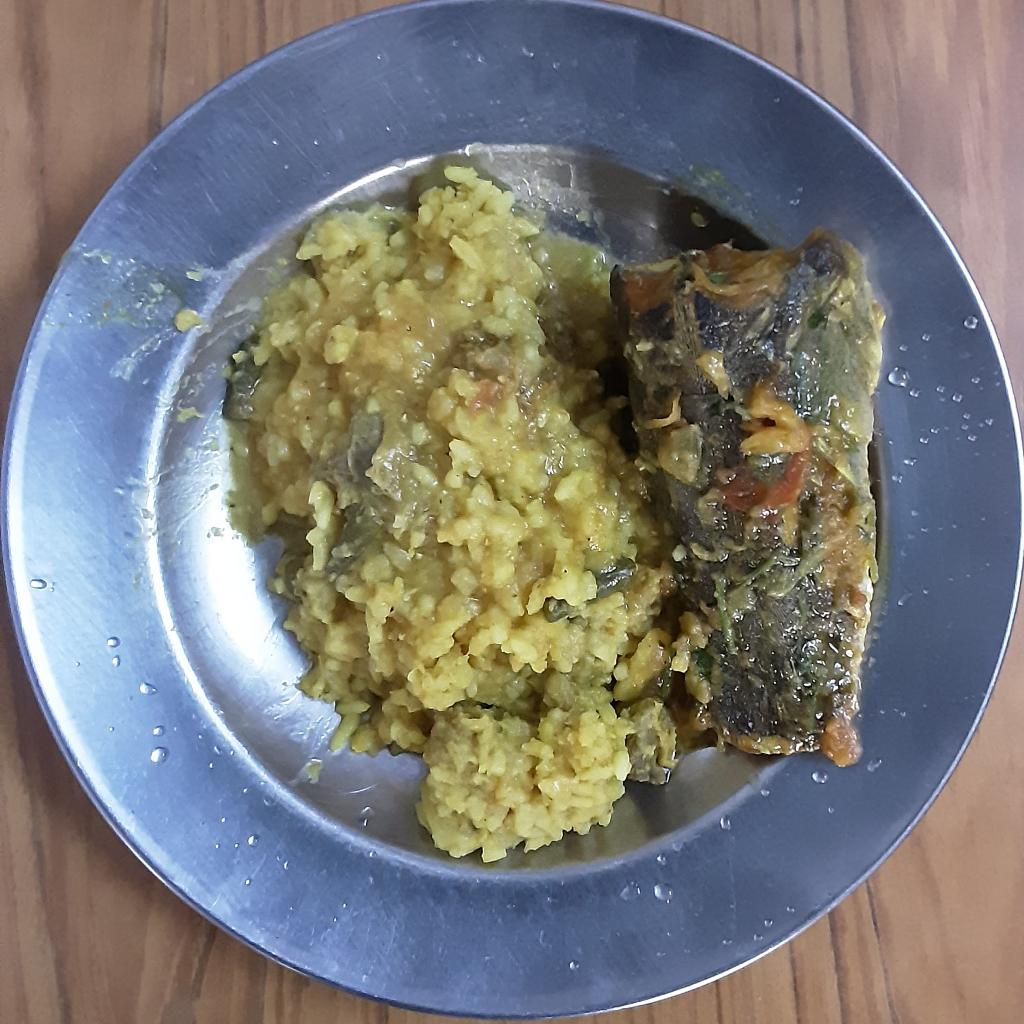fish: (607, 228, 893, 768)
khichuri: (222, 166, 717, 872)
